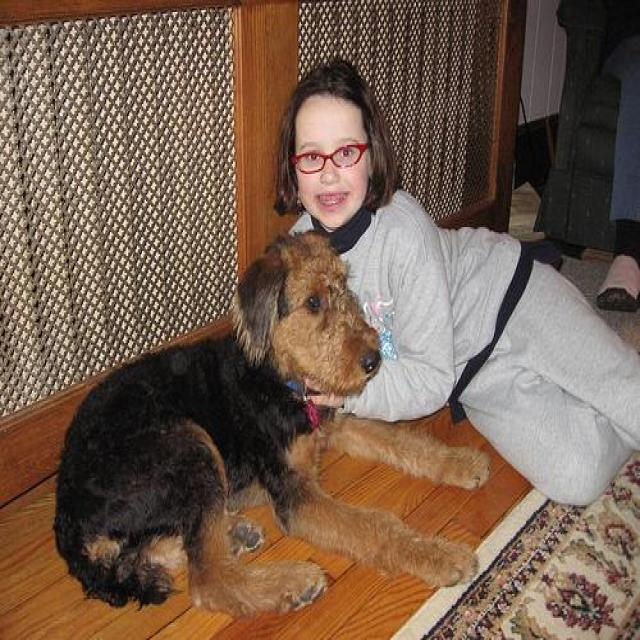airedale: (51, 232, 492, 615)
